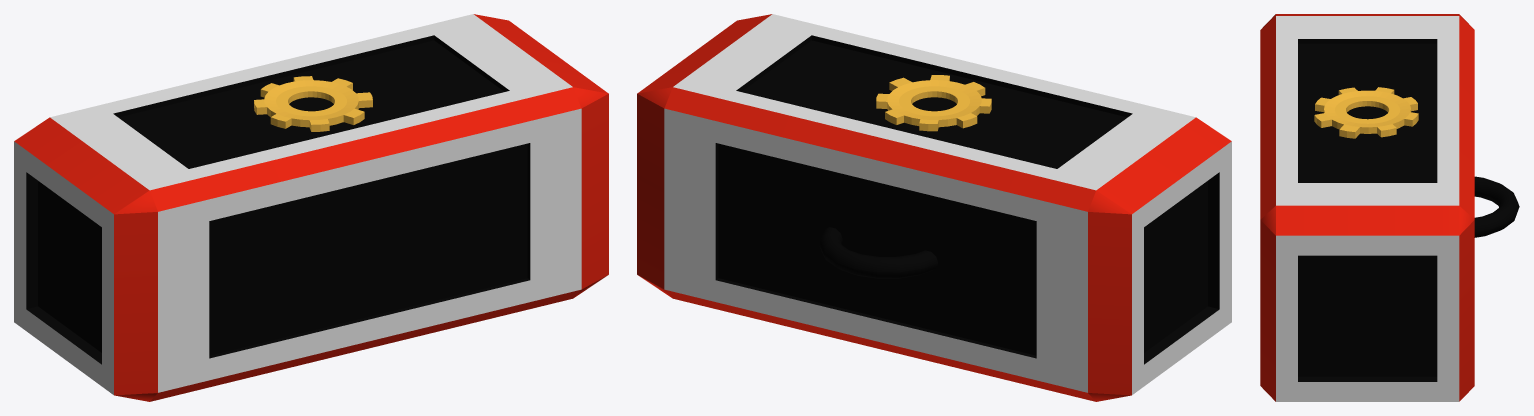
File: toolbox.glb
3 views of the same model, side by side, from view 1: azimuth 30°, elevation 25°; view 2: azimuth 150°, elevation 25°; view 3: azimuth 270°, elevation 25° (orthographic). The views are drawn at different scales.
Visible parts, largest first — view 1: Box, Frames 2, Cube, Circle; view 2: Box, Frames 2, Cube, Circle, Torus - baked; view 3: Box, Frames 2, Cube, Circle, Torus - baked.
Part boxes in pixels (x1,y1,x2,y2): Box: (26, 35, 530, 364); Frames 2: (14, 14, 581, 394); Cube: (14, 14, 608, 401); Circle: (254, 76, 372, 131); Box: (715, 35, 1219, 364); Frames 2: (664, 14, 1231, 394); Cube: (637, 14, 1231, 401); Circle: (876, 75, 991, 131); Torus - baked: (819, 227, 937, 278); Box: (1298, 39, 1437, 381); Frames 2: (1276, 16, 1459, 401); Cube: (1260, 14, 1474, 401); Circle: (1314, 87, 1418, 138); Torus - baked: (1474, 176, 1519, 237).
Size of the model in its own units: 0.1667 by 0.0688 by 0.0824.
